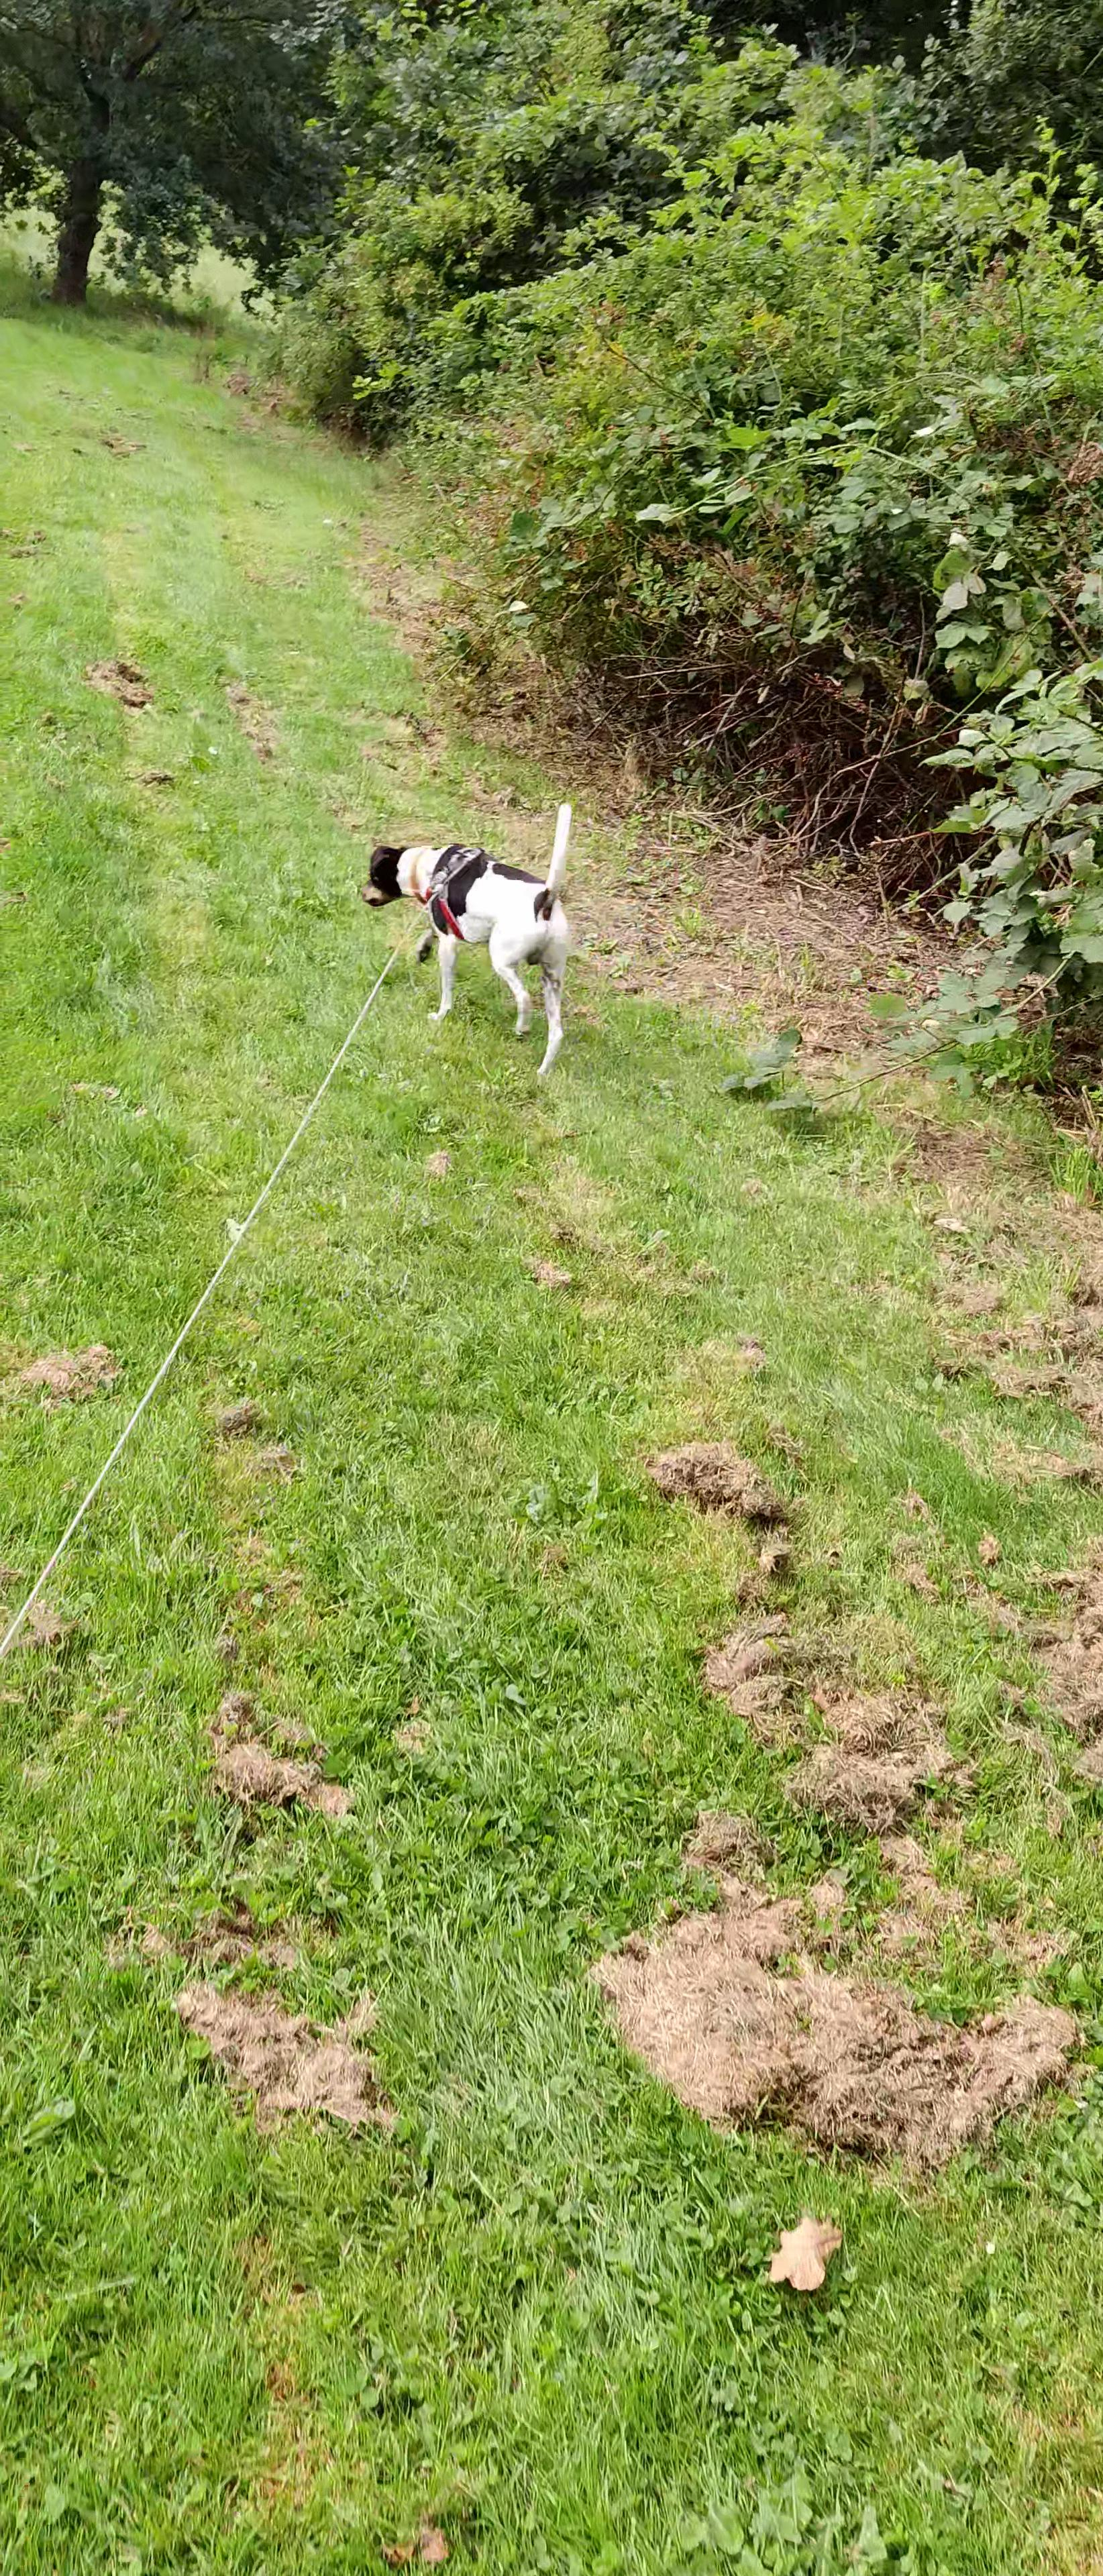Dog: (345, 767, 602, 1086)
